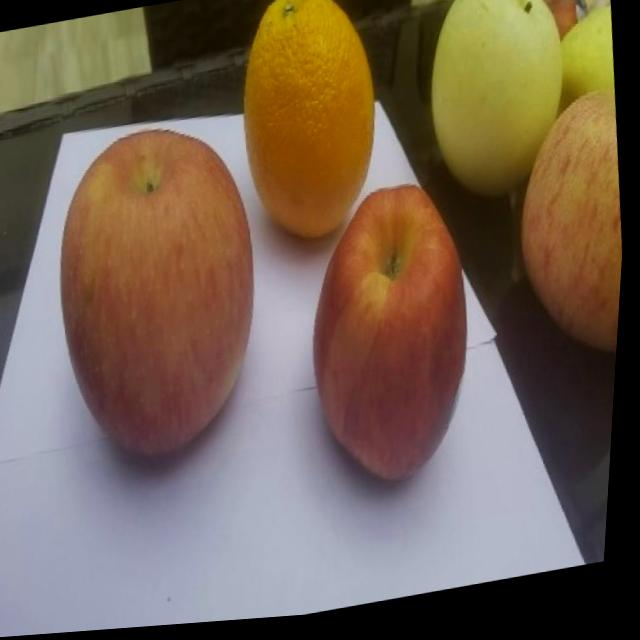Apple: (39, 114, 283, 476), (294, 180, 495, 504), (503, 95, 634, 384)
Orange: (226, 0, 397, 256)
